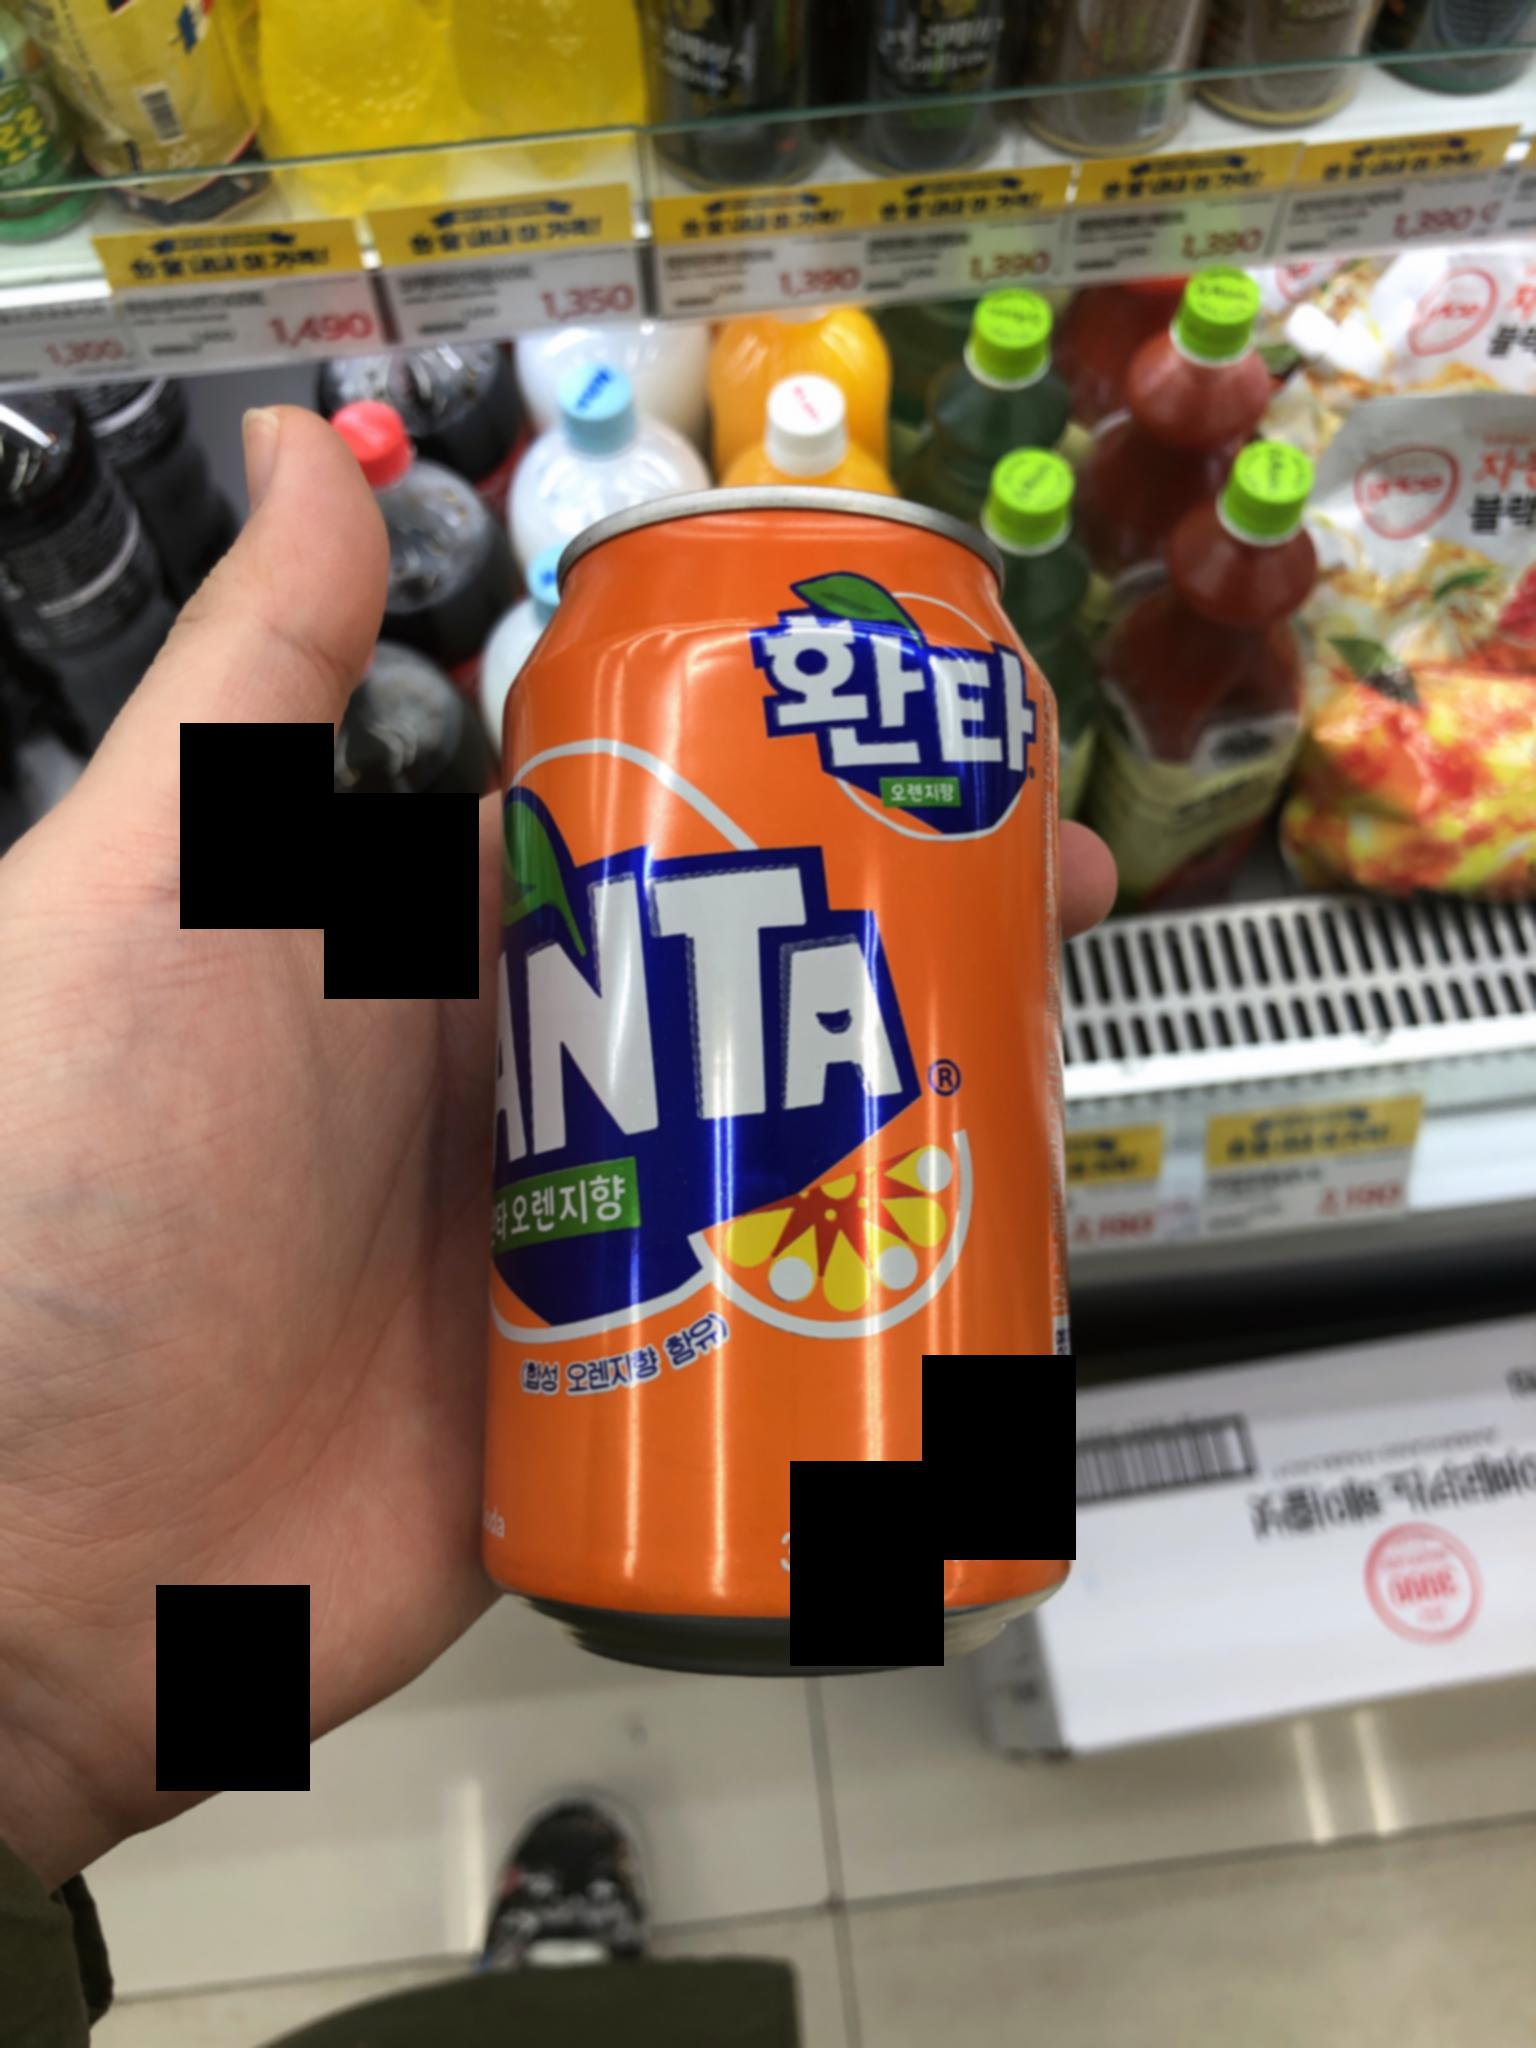fanta_orange: (423, 455, 1118, 1722)
